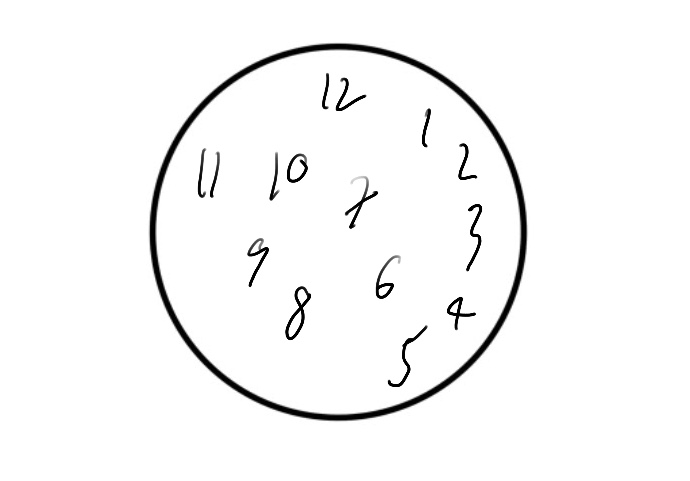eight: (284, 281, 311, 344)
eleven: (192, 141, 228, 208)
five: (384, 325, 428, 388)
four: (442, 290, 479, 335)
nine: (243, 230, 268, 291)
one: (420, 100, 433, 151)
seven: (346, 171, 381, 231)
six: (372, 251, 401, 302)
ten: (264, 144, 315, 202)
three: (462, 200, 484, 274)
twelve: (321, 69, 368, 114)
two: (456, 137, 479, 183)
